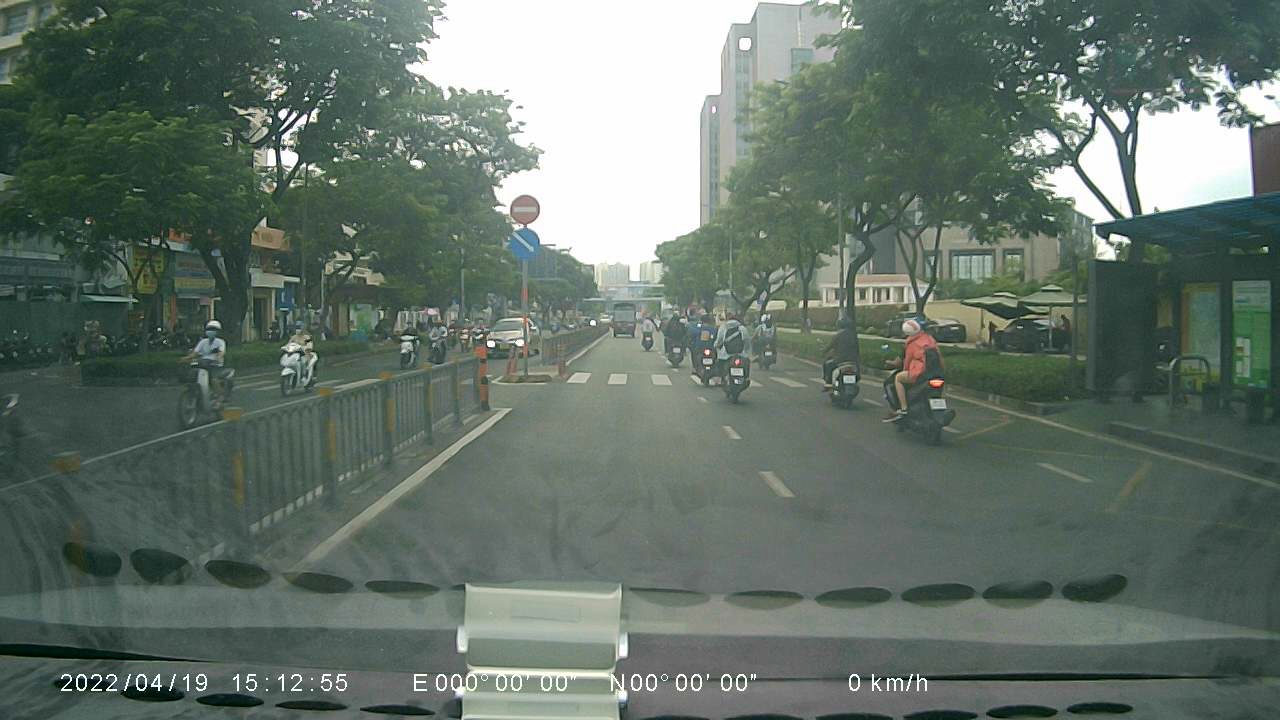Cam di nguoc chieu: (510, 191, 541, 222)
Huong di phai re phai: (508, 226, 540, 261)
